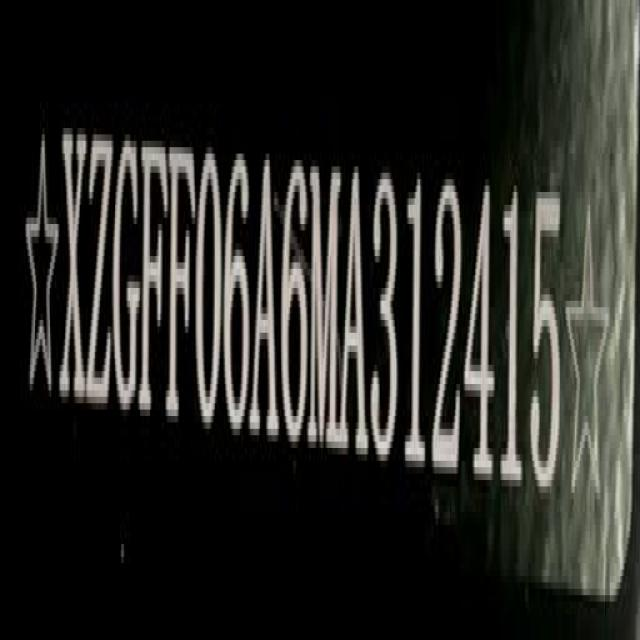0: (196, 136, 222, 423)
1: (500, 170, 526, 493), (402, 166, 428, 464)
2: (432, 174, 465, 484)
3: (371, 167, 402, 471)
4: (464, 164, 496, 494)
5: (530, 185, 563, 487)
6: (221, 118, 255, 445), (278, 146, 309, 436)
A: (338, 149, 370, 471), (249, 146, 281, 433)
F: (167, 120, 196, 428), (139, 121, 165, 414)
G: (113, 133, 139, 407)
M: (309, 159, 340, 449)
X: (60, 128, 86, 410)
Z: (88, 123, 112, 414)
